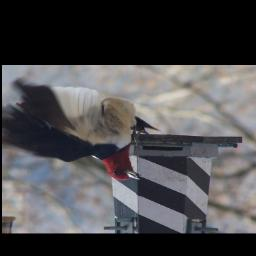Woodpecker: (3, 82, 155, 186)
